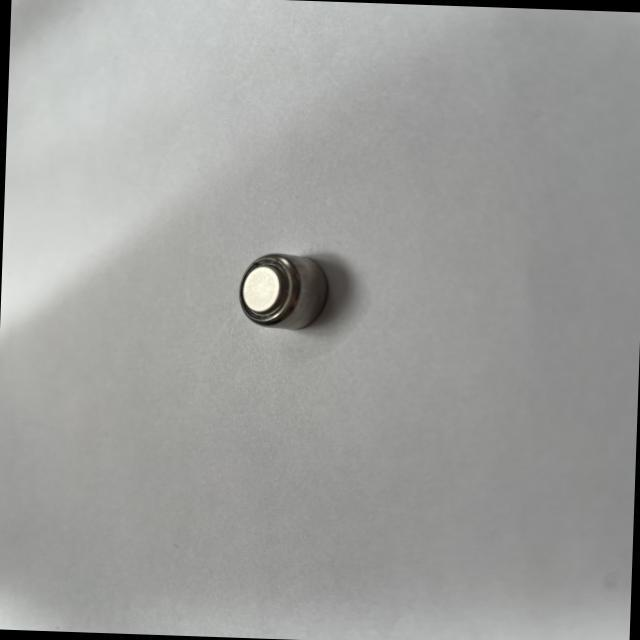COIN: (235, 248, 329, 332)
